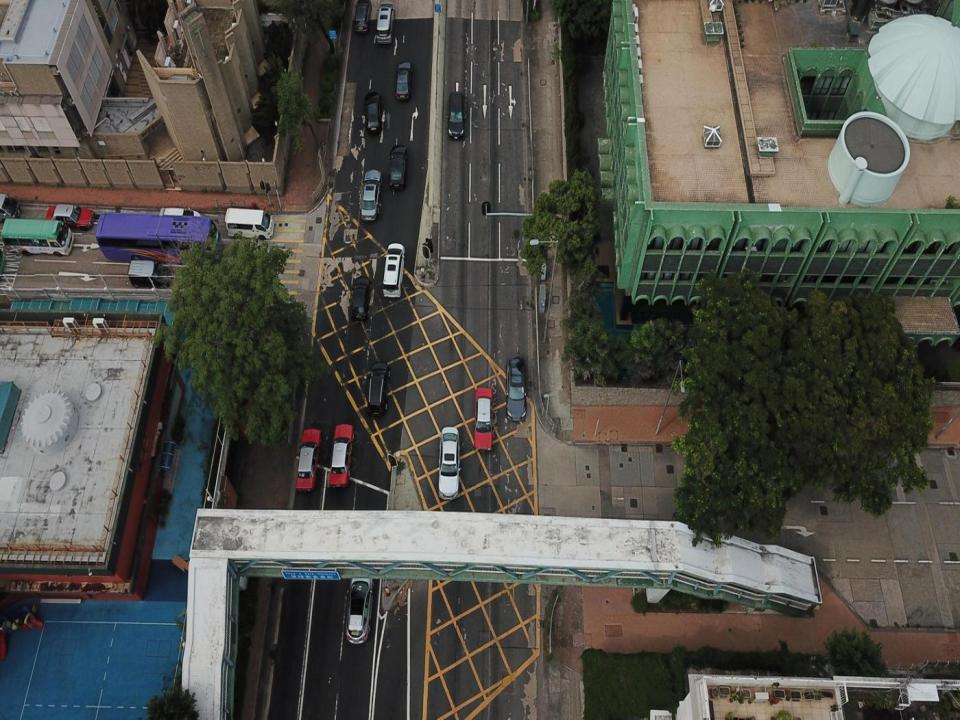bus: (95, 213, 220, 263), (0, 216, 73, 256)
car: (437, 426, 461, 499), (330, 424, 354, 488), (295, 426, 319, 490), (505, 356, 528, 422), (128, 258, 174, 290), (42, 204, 94, 231), (472, 388, 493, 450), (360, 168, 382, 220), (158, 206, 202, 230), (388, 144, 409, 191), (348, 281, 370, 317), (364, 92, 382, 132), (394, 61, 411, 102), (352, 0, 371, 35)
van: (346, 568, 373, 644), (224, 208, 275, 240), (382, 242, 404, 298), (368, 361, 388, 415), (447, 92, 466, 140), (374, 2, 395, 44), (0, 192, 23, 226)
